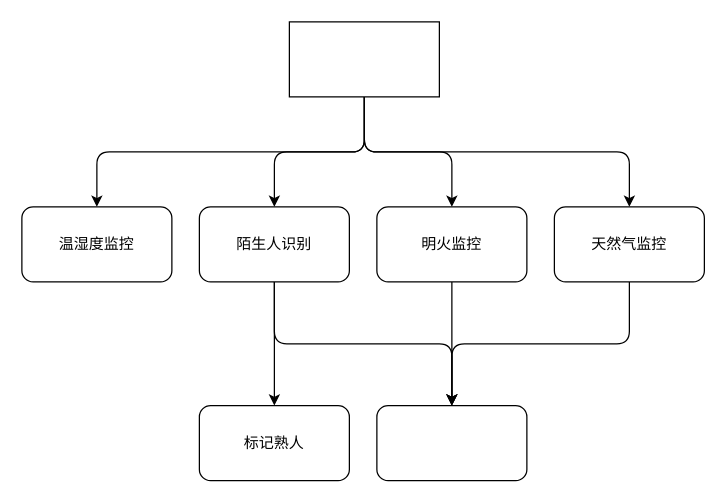
The diagram is 726 pixels wide and 503 high, and some of its shapes have lost their labels. The box of each missing label's shape, as (x1, y1, x2, y2) in pixels:
功能设计: (288, 21, 439, 97)
警报提醒: (376, 404, 527, 481)
